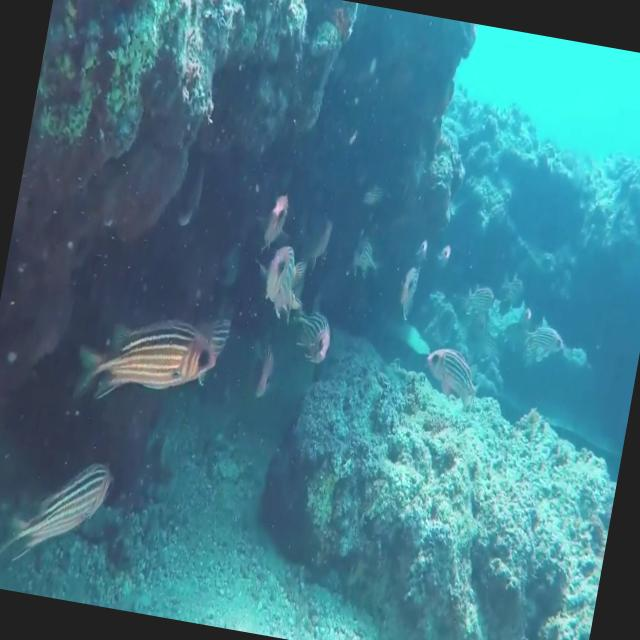Asker Baligi: (75, 290, 234, 422), (0, 443, 117, 577), (246, 234, 320, 320), (418, 341, 483, 412)
